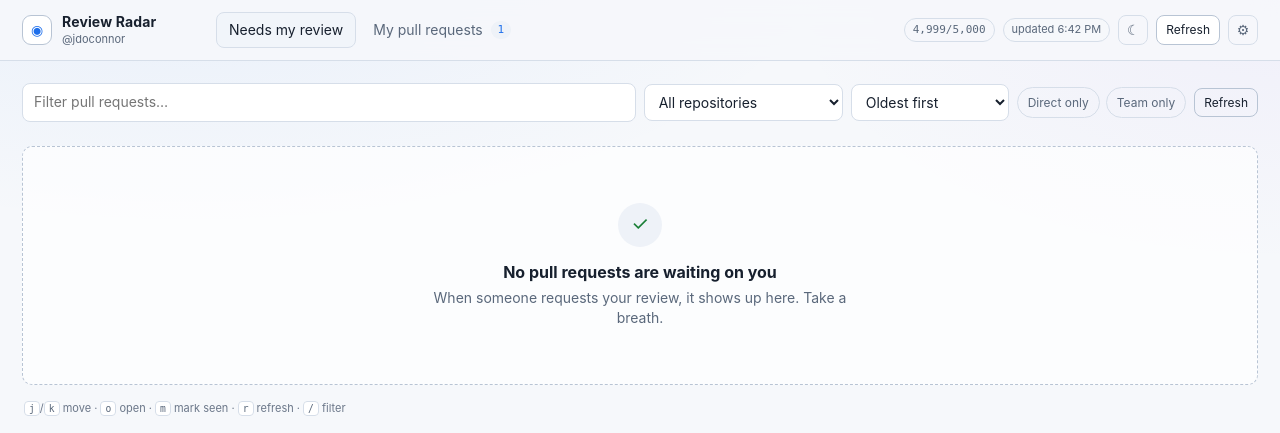
Test case: the stack message on a waiting pull request › links a native stack rung without needing the parent in the view
The width and height of the screenshot is (1280, 433).
Click the button with test id "tab-mine" at [442, 30], box [360,12,524,48]
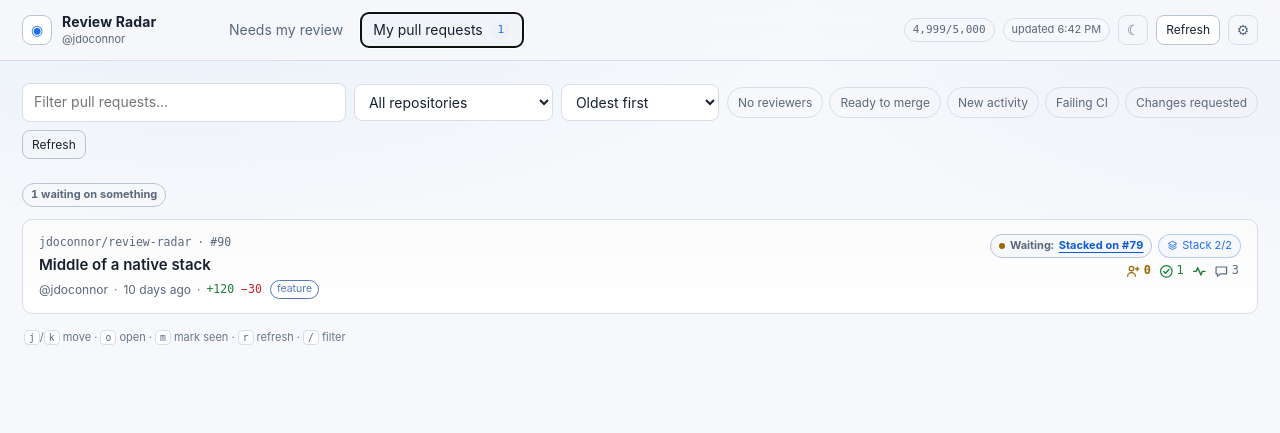
expect the link "Middle of a native stack" is shown: met, box [39,255,211,274]
